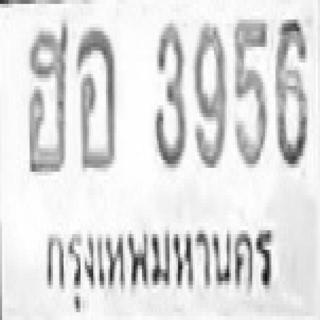A43: (74, 23, 114, 168)
A44: (24, 19, 67, 172)
N03: (153, 20, 184, 164)
N05: (232, 16, 266, 164)
N06: (273, 16, 305, 164)
N09: (193, 20, 225, 164)
P04: (42, 222, 279, 318)
